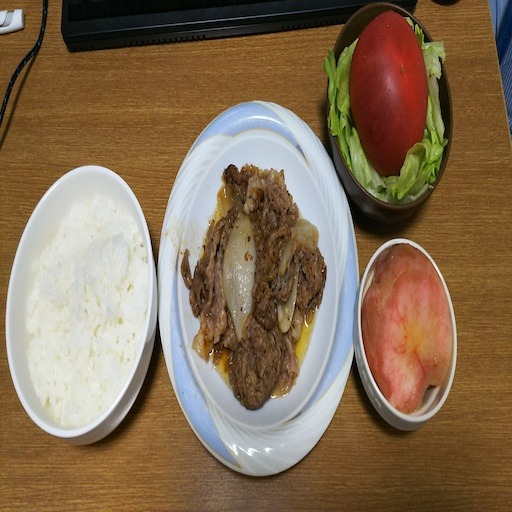other: (183, 164, 328, 411), (22, 192, 150, 430), (326, 7, 452, 204), (360, 241, 455, 422)
